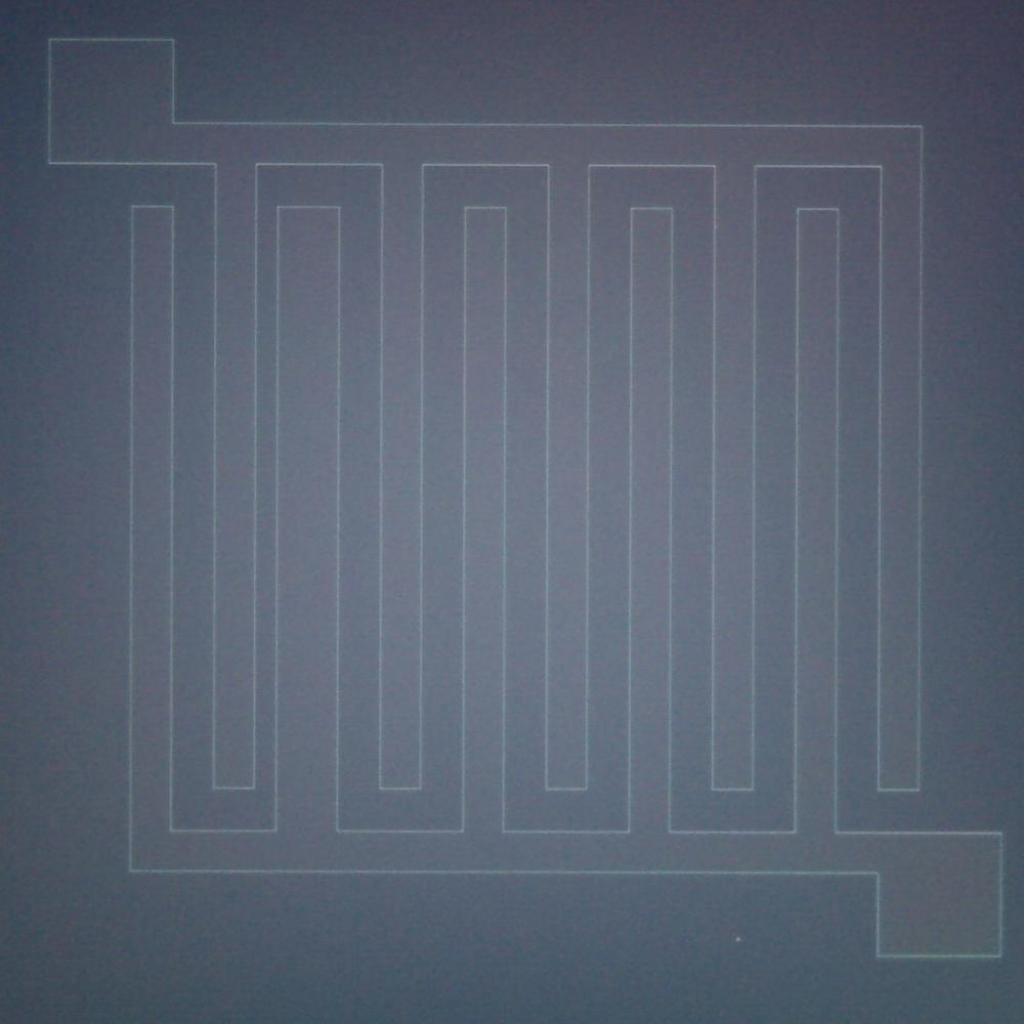dot: (736, 936, 742, 942)
